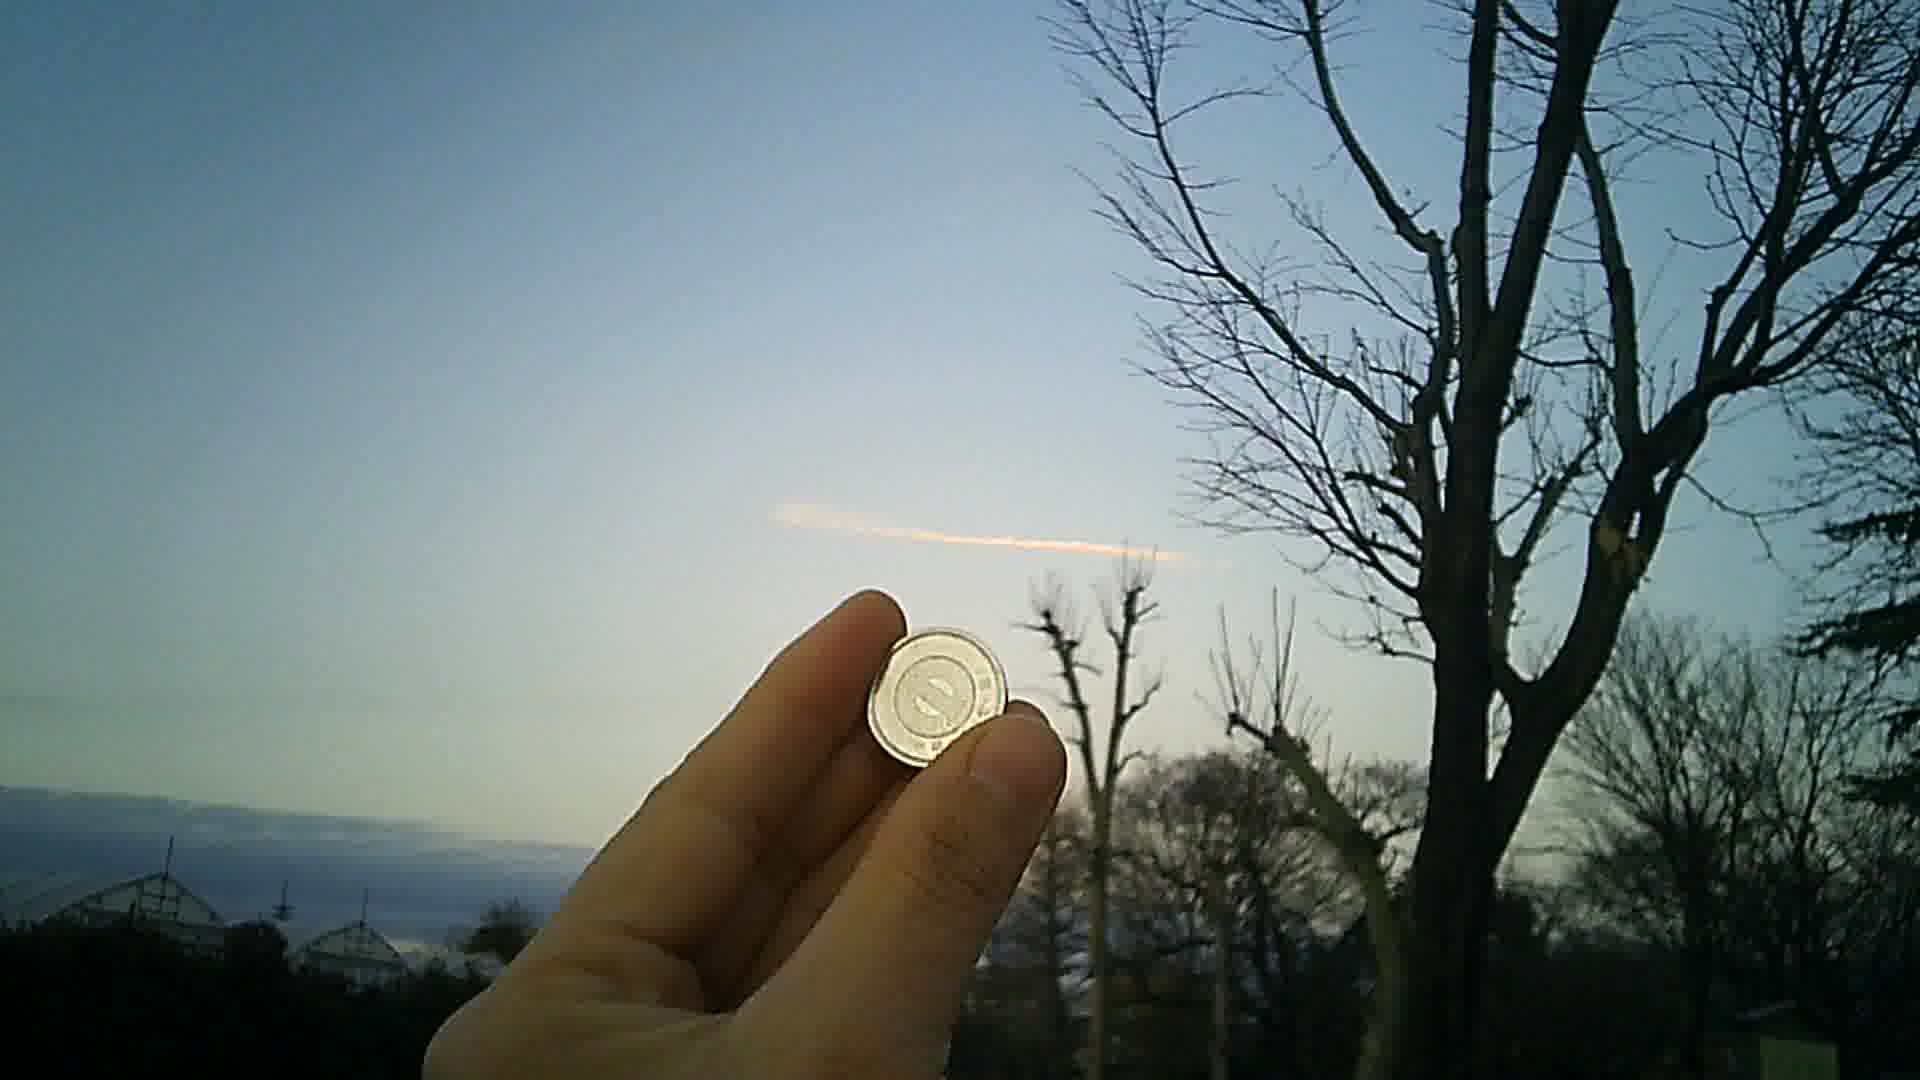1 Yen: (860, 615, 1018, 769)
